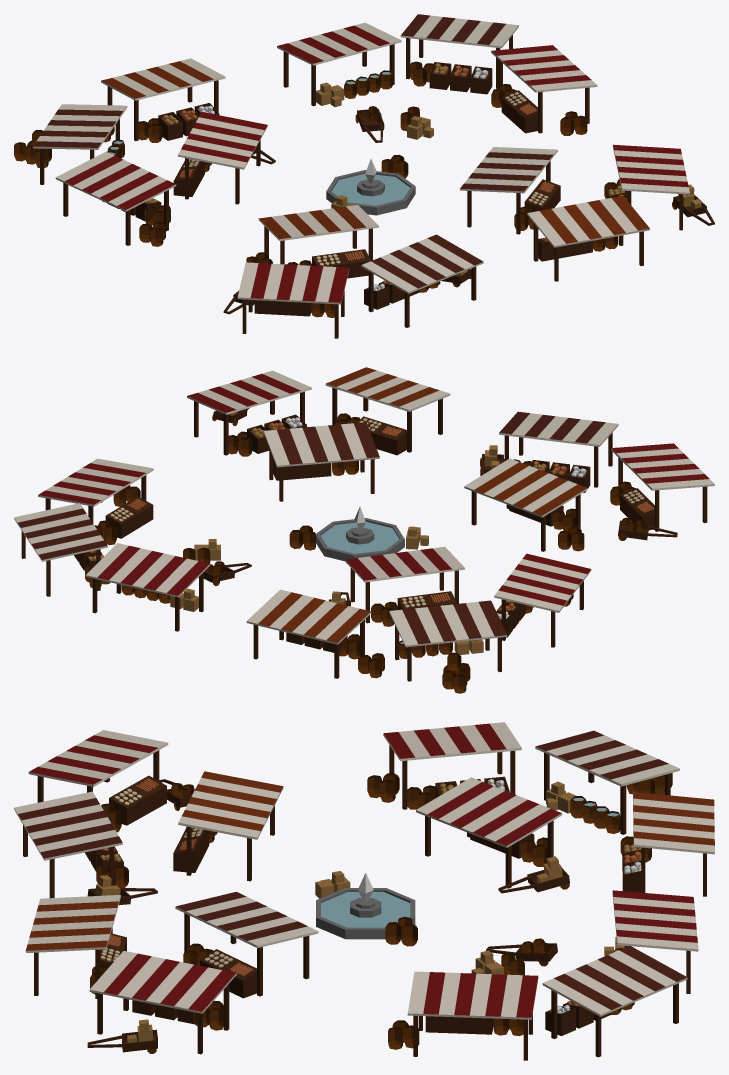
The model's file is Marketv1.fbx.
3 views of the same model, one above another, from view 1: azimuth 30°, elevation 25°; view 2: azimuth 150°, elevation 25°; view 3: azimuth 270°, elevation 25° (orthographic). The views are drawn at different scales.
Visible parts, largest first — view 1: Circle.032; view 2: Circle.032; view 3: Circle.032.
Boxes of the visible parts, left/top/right/bottom form: Circle.032: left=14, top=14, right=714, bottom=338; Circle.032: left=14, top=367, right=714, bottom=693; Circle.032: left=14, top=722, right=714, bottom=1060.
Size of the model in its own units: 414 by 35.65 by 415.
